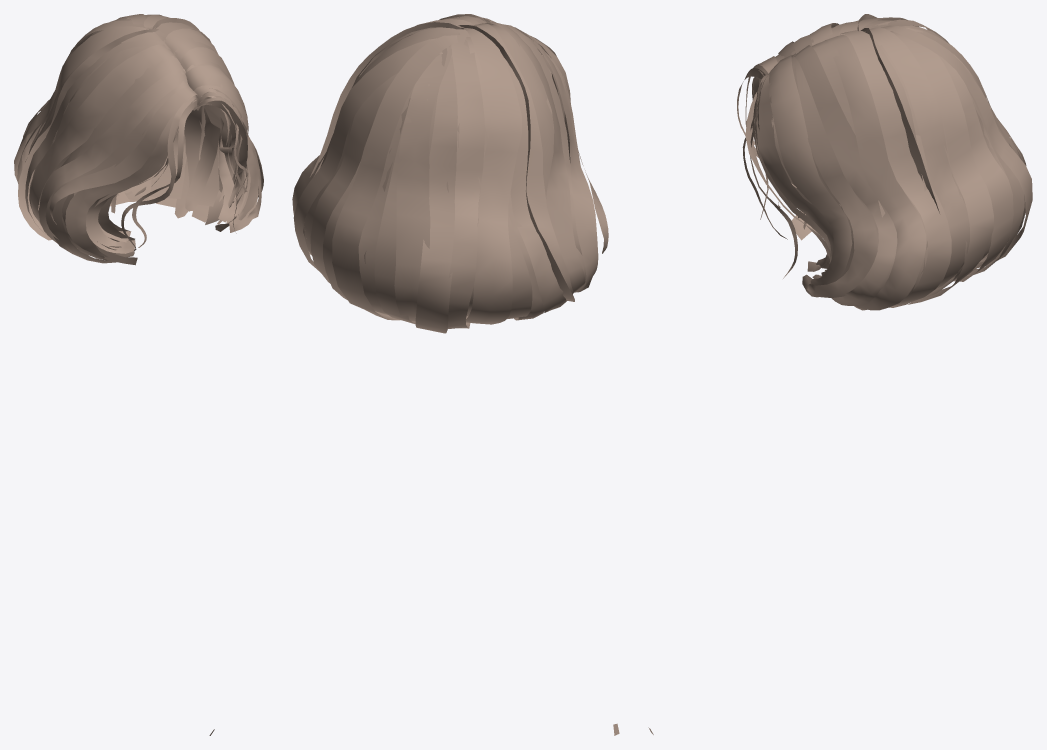
Rendered from female_hair_11_lod0.glb.
The picture shows the model from 3 angles, left to right: view 1: azimuth 30°, elevation 25°; view 2: azimuth 150°, elevation 25°; view 3: azimuth 270°, elevation 25°; orthographic projection. The views are drawn at different scales.
Parts seen in each view (by area): view 1: female-hair-11; view 2: female-hair-11; view 3: female-hair-11.
Boxes of the visible parts, <box> form: female-hair-11: <box>14,14,263,735</box>; female-hair-11: <box>292,14,619,735</box>; female-hair-11: <box>648,14,1032,734</box>.
Size of the model in its own units: 0.256 by 0.6897 by 0.329.
